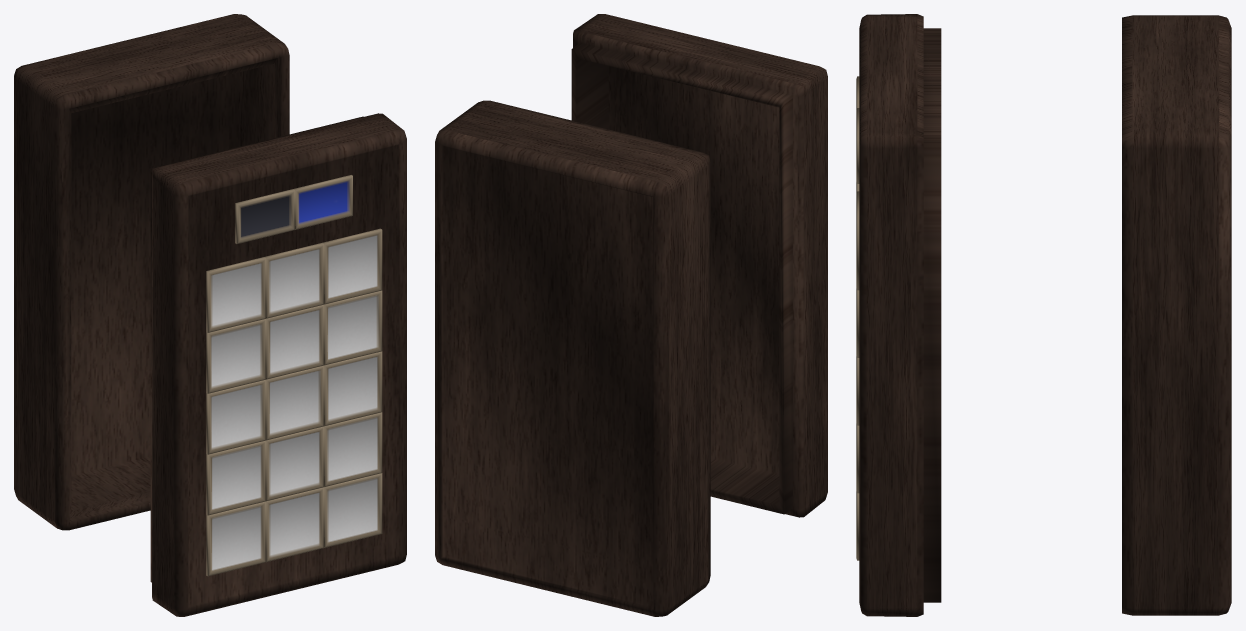
Rendered from bluePadBox3x5_W (1).fbx.
The picture shows the model from 3 angles, left to right: view 1: azimuth 30°, elevation 25°; view 2: azimuth 150°, elevation 25°; view 3: azimuth 270°, elevation 25°; orthographic projection. The views are drawn at different scales.
Visible parts, largest first — view 1: BluePadBox_3x5_cover, BluePadBox_3x5_body; view 2: BluePadBox_3x5_body, BluePadBox_3x5_cover; view 3: BluePadBox_3x5_body, BluePadBox_3x5_cover.
Part boxes in pixels (x1,y1,x2,y2): BluePadBox_3x5_cover: [150, 113, 406, 616]; BluePadBox_3x5_body: [14, 14, 289, 530]; BluePadBox_3x5_body: [435, 100, 710, 616]; BluePadBox_3x5_cover: [571, 14, 827, 517]; BluePadBox_3x5_body: [1122, 15, 1231, 615]; BluePadBox_3x5_cover: [856, 14, 941, 616].
Size of the model in its own units: 80 by 143 by 101.
Materials: 1 (1 with a texture image).
